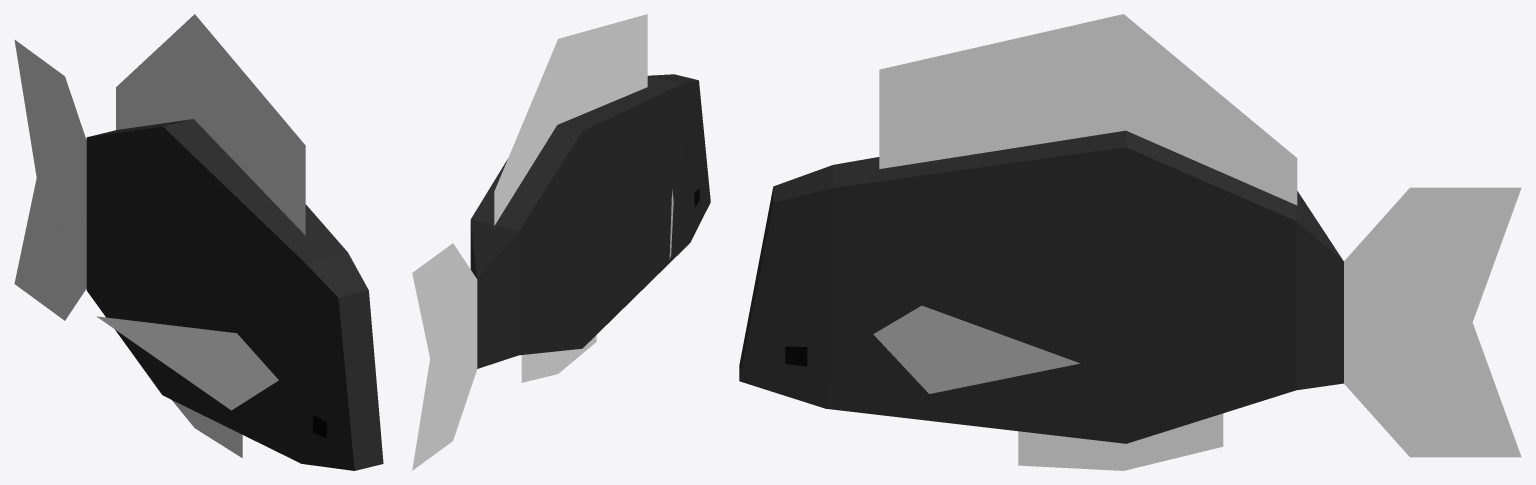
The model's file is 23largerflounder.fbx.
3 views of the same model, side by side, from view 1: azimuth 30°, elevation 25°; view 2: azimuth 150°, elevation 25°; view 3: azimuth 270°, elevation 25° (orthographic). The views are drawn at different scales.
Visible parts, largest first — view 1: Tropical Fish 23; view 2: Tropical Fish 23; view 3: Tropical Fish 23.
Boxes of the visible parts, x1,y1,x2,y2 form: Tropical Fish 23: [14, 14, 383, 470]; Tropical Fish 23: [412, 14, 710, 470]; Tropical Fish 23: [739, 14, 1521, 470].
Size of the model in its own units: 132 by 222 by 344.
